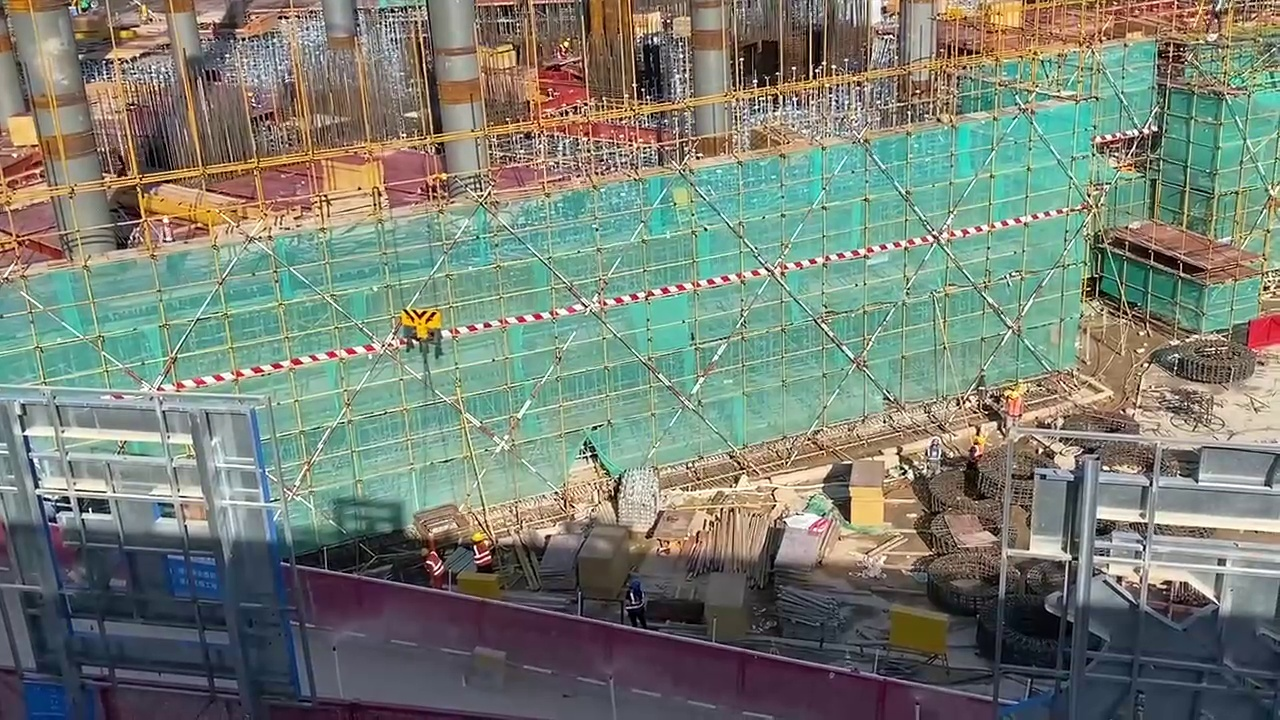board: (846, 457, 885, 523)
fence: (3, 669, 501, 720)
hook: (400, 307, 442, 342)
person: (621, 576, 648, 627), (417, 544, 448, 587), (465, 530, 494, 566)
vest: (422, 551, 443, 577), (473, 542, 493, 566)
wood: (693, 511, 770, 585)
